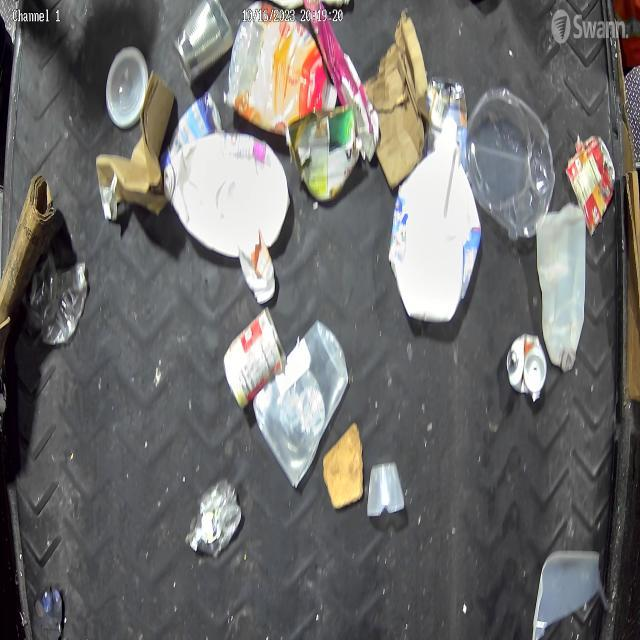can: (218, 310, 290, 426), (566, 130, 618, 248), (174, 2, 234, 88)
milk_jug: (389, 114, 481, 335), (164, 120, 288, 260)
non_white_jug: (230, 0, 337, 145)
